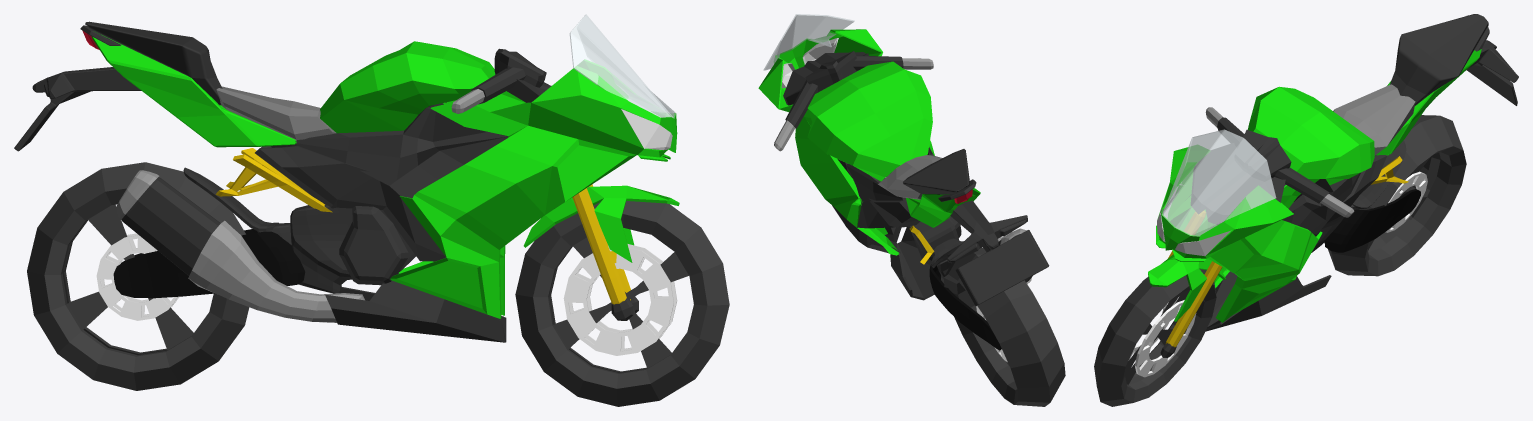
File: model-motocycle-animated.glb
The picture shows the model from 3 angles, left to right: view 1: azimuth 30°, elevation 25°; view 2: azimuth 150°, elevation 25°; view 3: azimuth 270°, elevation 25°; orthographic projection. The views are drawn at different scales.
Visible parts, largest first — view 1: wheel-front.002, wheel-front.008, Plane.011, sit.006, Plane.010, sit.002, sit.001, Plane.020, Plane.014, wheel-front.001, Plane.022, Plane.019 (+16 smaller); view 2: sit.002, wheel-front.002, sit.009, Plane.011, Plane.010, sit.006, Plane.009, sit.003, Plane.012, Plane.014, Plane.022, sit.001 (+8 smaller); view 3: wheel-front.002, Plane.012, wheel-front.008, sit.002, Plane.011, Plane.009, Plane.010, sit.003, sit, Plane.022, sit.006, Plane.014 (+12 smaller).
Part boxes in pixels (left/top/right/bottom): wheel-front.002: left=27, top=162, right=249, bottom=390; wheel-front.008: left=515, top=201, right=729, bottom=406; Plane.011: left=390, top=125, right=636, bottom=318; sit.006: left=255, top=102, right=508, bottom=261; Plane.010: left=430, top=59, right=677, bottom=161; sit.002: left=320, top=41, right=495, bottom=133; sit.001: left=91, top=34, right=296, bottom=147; Plane.020: left=188, top=220, right=364, bottom=322; Plane.014: left=325, top=273, right=506, bottom=342; wheel-front.001: left=563, top=244, right=677, bottom=355; Plane.022: left=113, top=229, right=305, bottom=298; Plane.019: left=122, top=178, right=220, bottom=275; sit.002: left=807, top=61, right=932, bottom=181; wheel-front.002: left=943, top=247, right=1065, bottom=406; sit.009: left=947, top=200, right=1049, bottom=305; Plane.011: left=795, top=117, right=934, bottom=255; Plane.010: left=758, top=29, right=882, bottom=125; sit.006: left=837, top=147, right=944, bottom=228; Plane.009: left=783, top=51, right=868, bottom=105; sit.003: left=903, top=149, right=969, bottom=194; Plane.012: left=763, top=14, right=854, bottom=70; Plane.014: left=890, top=226, right=944, bottom=300; Plane.022: left=929, top=264, right=1001, bottom=350; sit.001: left=906, top=188, right=980, bottom=227; wheel-front.002: left=1328, top=115, right=1466, bottom=276; Plane.012: left=1161, top=129, right=1276, bottom=236; wheel-front.008: left=1094, top=269, right=1216, bottom=406; sit.002: left=1248, top=86, right=1374, bottom=184; Plane.011: left=1168, top=195, right=1322, bottom=322; Plane.009: left=1191, top=129, right=1291, bottom=224; Plane.010: left=1156, top=145, right=1319, bottom=261; sit.003: left=1390, top=14, right=1488, bottom=105; sit: left=1333, top=84, right=1415, bottom=155; Plane.022: left=1324, top=189, right=1420, bottom=252; sit.006: left=1282, top=155, right=1386, bottom=236; Plane.014: left=1205, top=270, right=1331, bottom=331.
Size of what is drawn, in the model's own units: 1.84 by 1.19 by 1.62.
